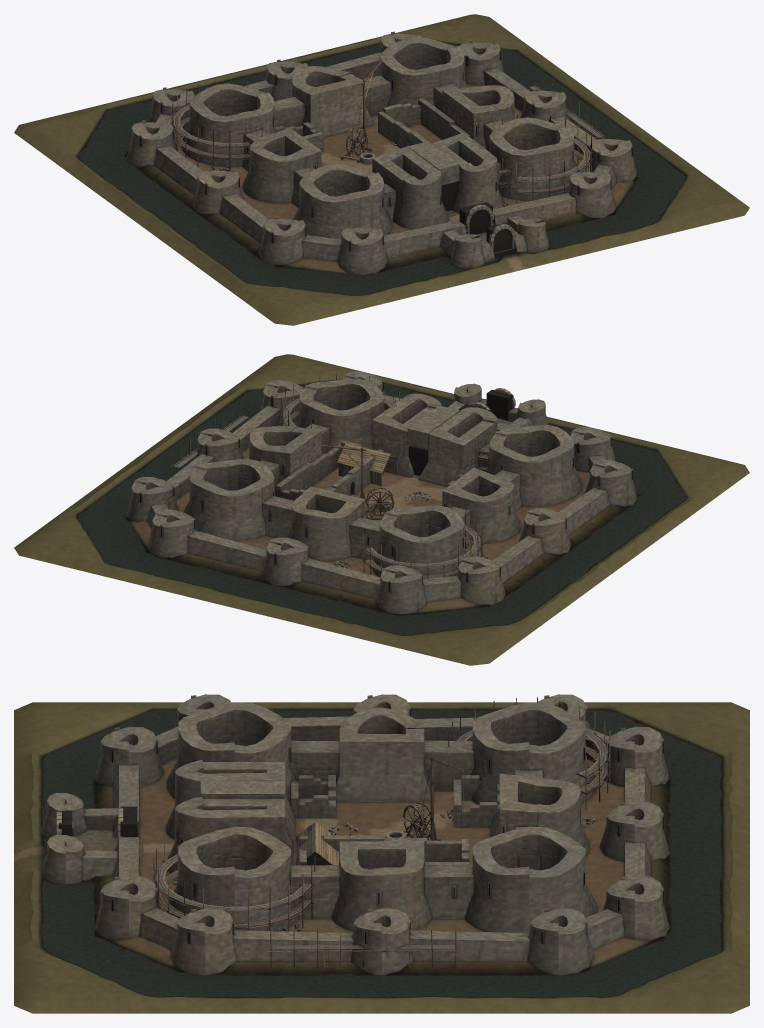
The model's file is concentric_castle_build2.glb.
3 renders of one model, top to bottom at view 1: azimuth 30°, elevation 25°; view 2: azimuth 150°, elevation 25°; view 3: azimuth 270°, elevation 25°, orthographic. The views are drawn at different scales.
Visible parts, largest first — view 1: concentric_castle_build2_LOD0; view 2: concentric_castle_build2_LOD0; view 3: concentric_castle_build2_LOD0.
Part boxes in pixels (box(x1,y1,x2,y2)): concentric_castle_build2_LOD0: box(14, 14, 749, 325); concentric_castle_build2_LOD0: box(14, 354, 749, 665); concentric_castle_build2_LOD0: box(14, 694, 749, 1013).
Size of what is drawn, in the model's own units: 80 by 12.89 by 80.
Materials: 1 (1 with a texture image).
